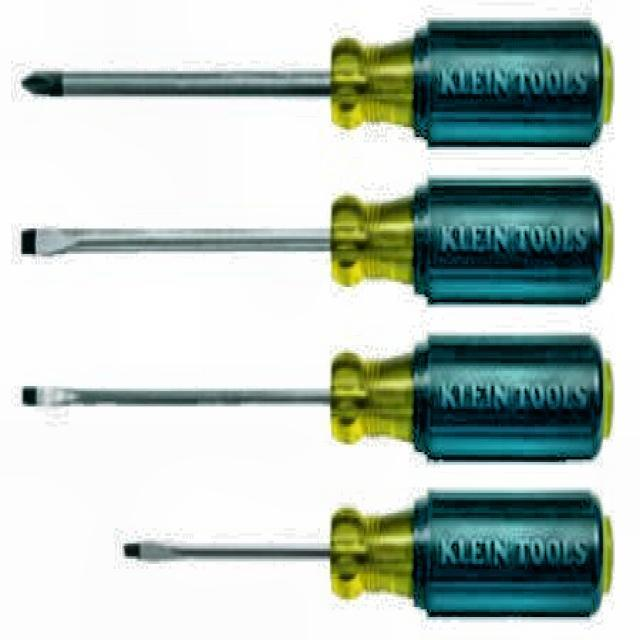screwdriver: (21, 18, 614, 150), (21, 176, 614, 308), (22, 333, 614, 463), (124, 489, 614, 619)
